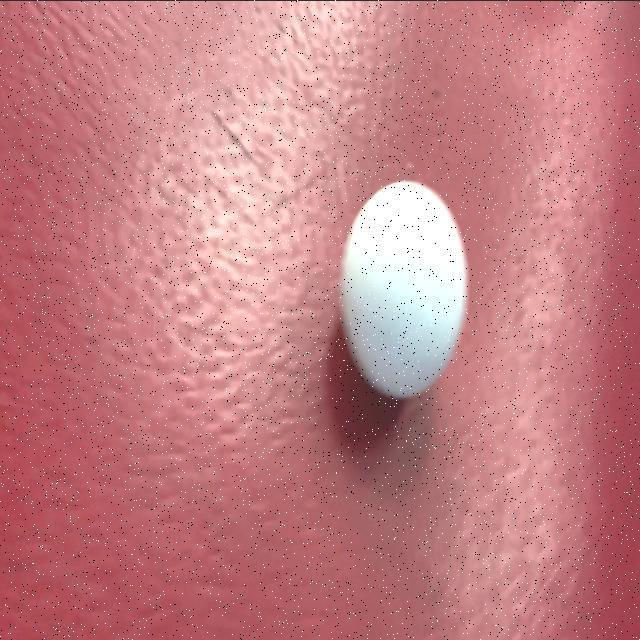ping-pong-ball: (335, 153, 473, 428)
